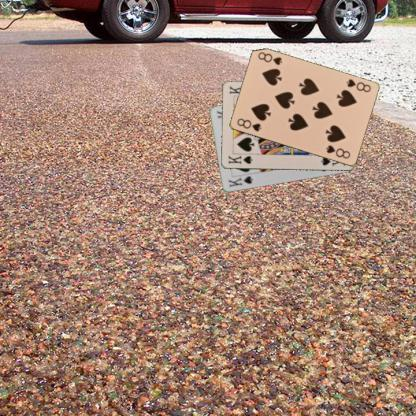8s: (343, 76, 372, 94), (234, 115, 262, 133)
Ks: (225, 174, 254, 188), (225, 153, 254, 165)
